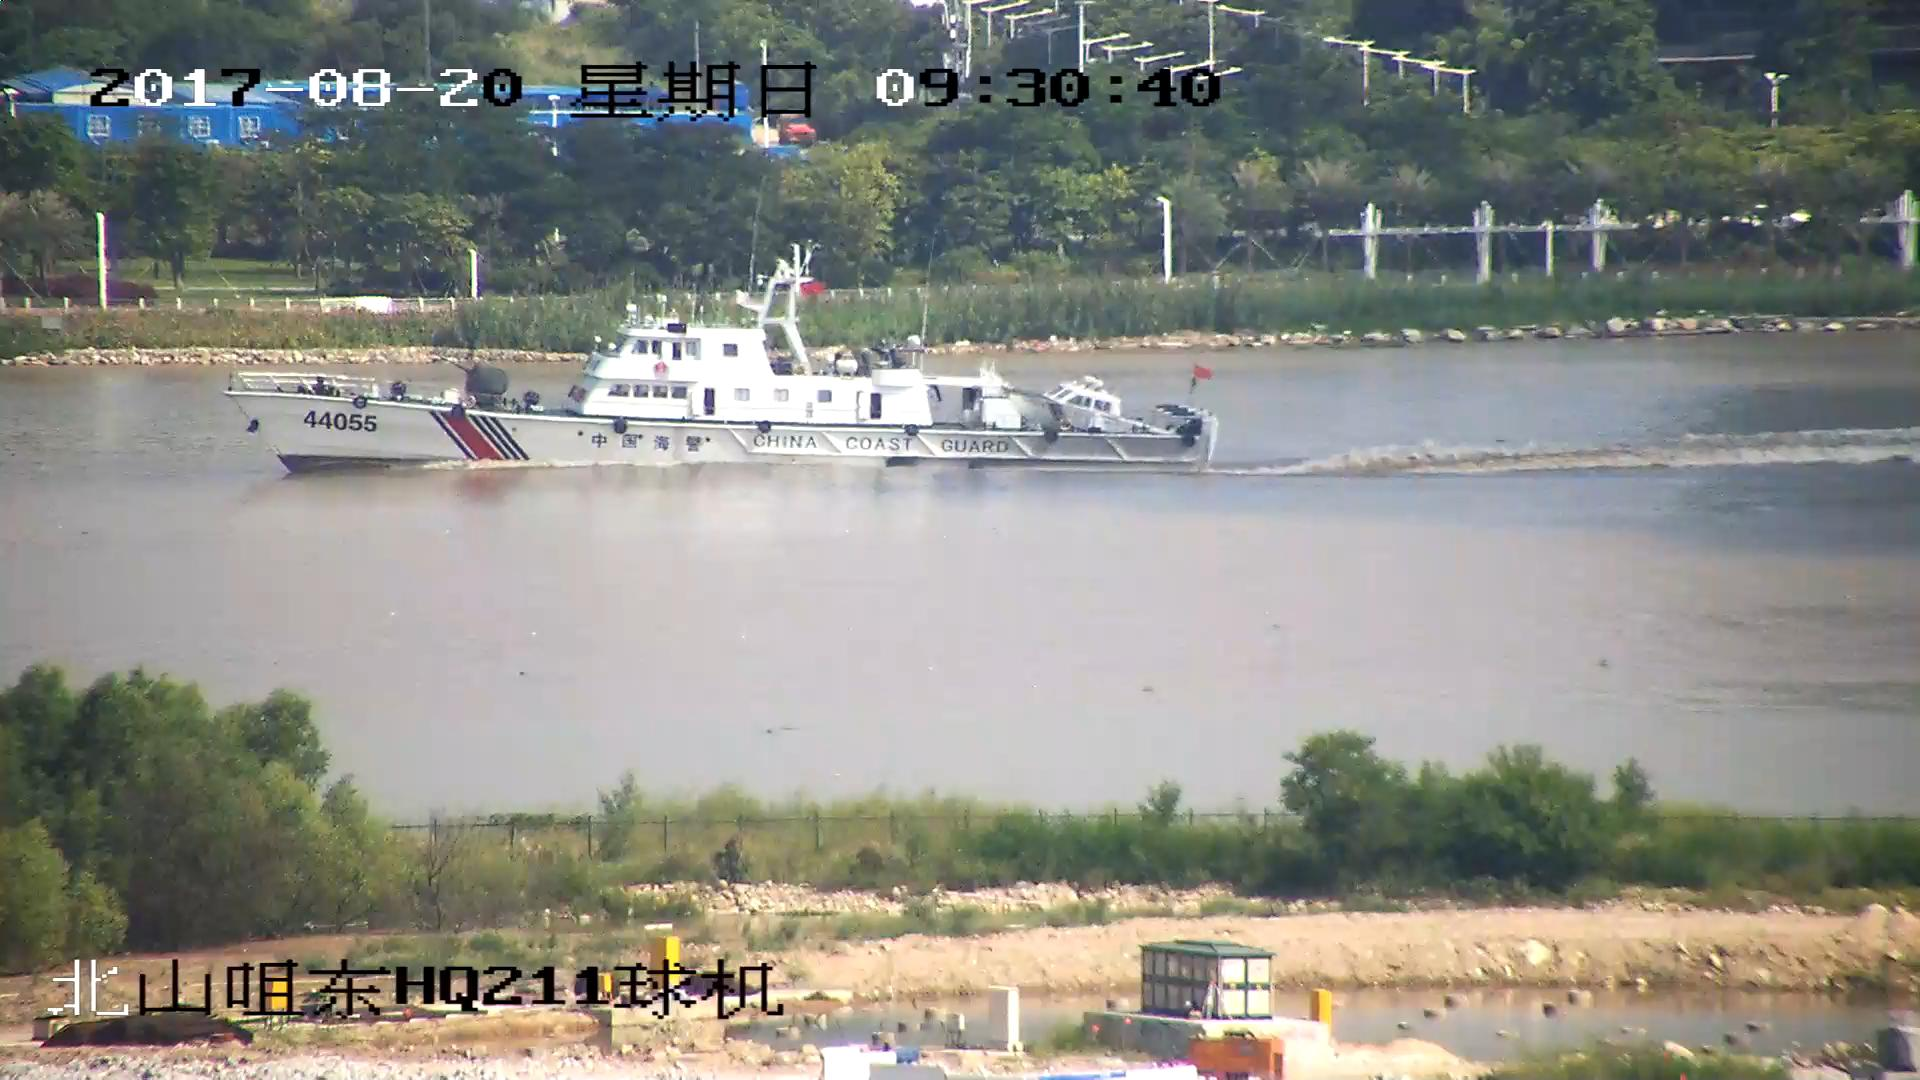passenger ship: (234, 258, 1220, 466)
